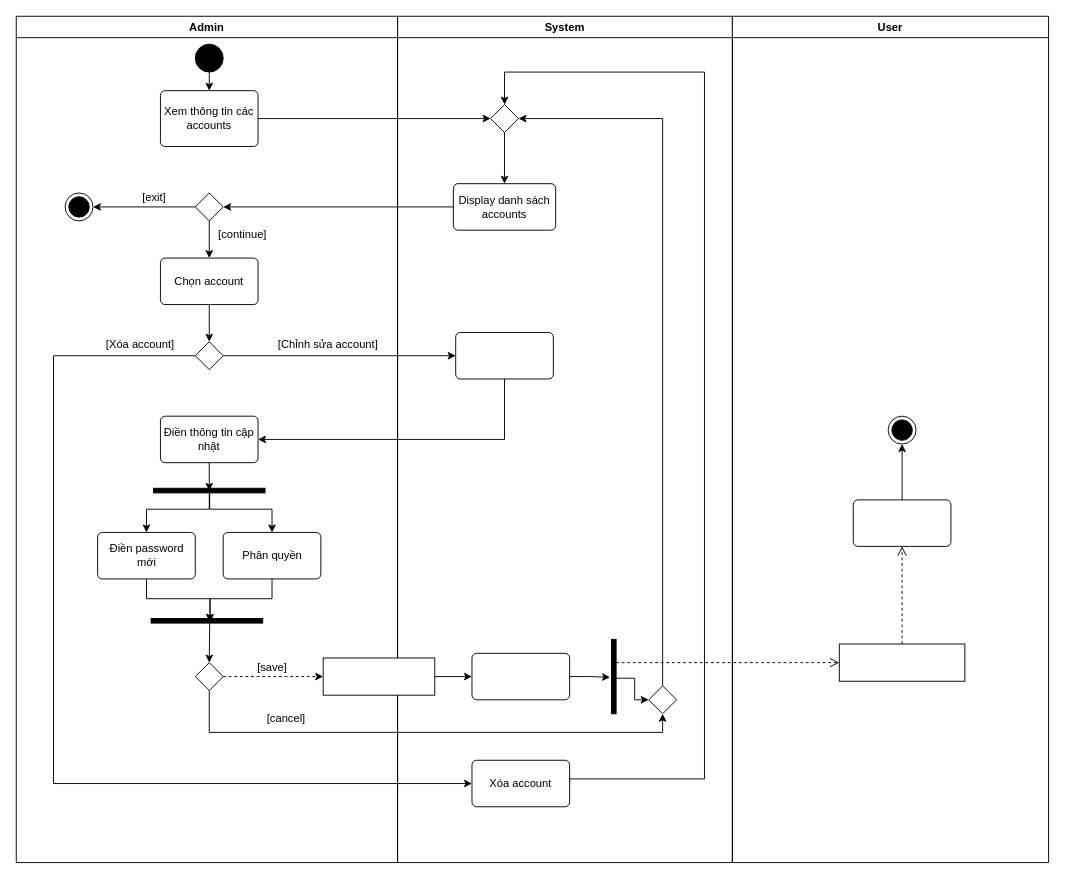
This 1065x879 diagram has some shape labels left out. Each missing label, with the centre of its shape:
Cập nhật account: (520,676)
Hiển thị update form: (504,355)
Thông tin người dùng [Đã chỉnh sửa]: (378,676)
Thông tin người dùng [Đã cập nhật]: (901,662)
Xác nhận thông tin updated account: (901,522)
